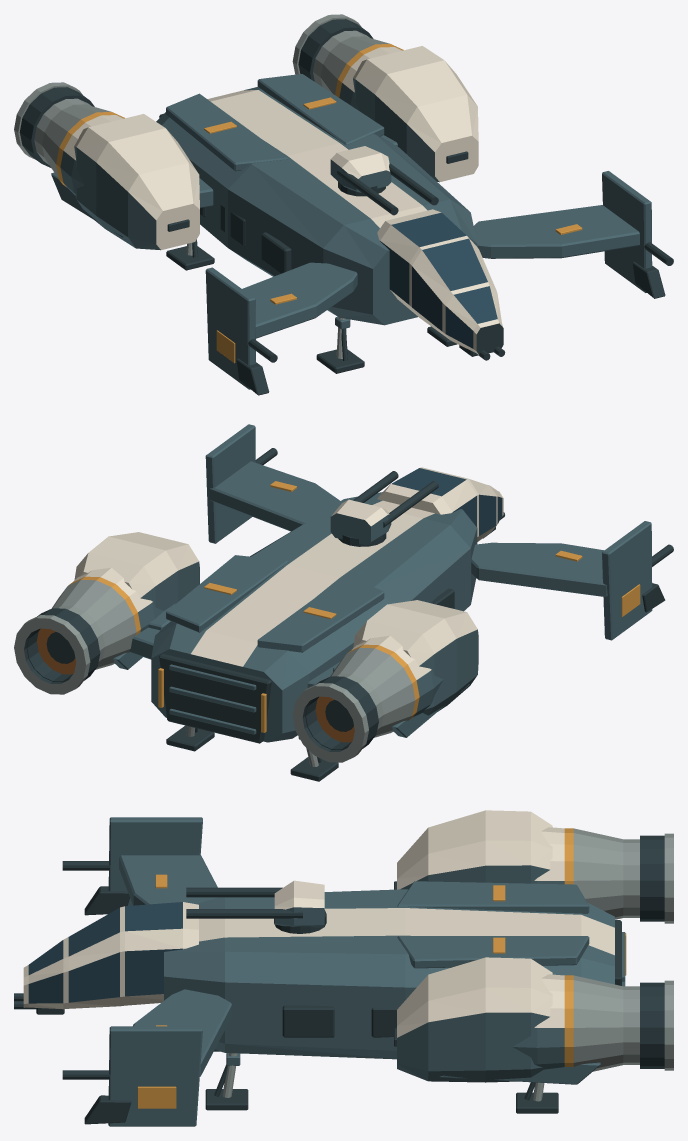
The model's file is cutlass_01.glb.
3 renders of one model, top to bottom at view 1: azimuth 30°, elevation 25°; view 2: azimuth 150°, elevation 25°; view 3: azimuth 270°, elevation 25°, orthographic. The views are drawn at different scales.
Visible parts, largest first — view 1: cutlass_01; view 2: cutlass_01; view 3: cutlass_01.
Boxes of the visible parts, x1,y1,x2,y2 form: cutlass_01: [14, 14, 673, 395]; cutlass_01: [14, 424, 673, 781]; cutlass_01: [14, 810, 673, 1126].
Size of the model in its own units: 12.36 by 4.94 by 16.
